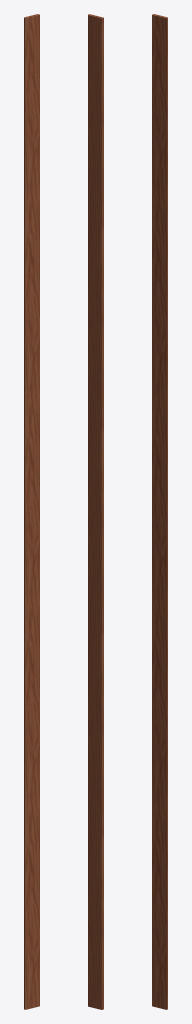
The model's file is batten-oak.glb.
3 renders of one model, left to right at view 1: azimuth 30°, elevation 25°; view 2: azimuth 150°, elevation 25°; view 3: azimuth 330°, elevation 25°, orthographic.
Parts seen in each view (by area): view 1: Oak.002; view 2: Oak.002; view 3: Oak.002.
Boxes of the visible parts, x1,y1,x2,y2 form: Oak.002: [24, 14, 39, 1009]; Oak.002: [88, 14, 103, 1009]; Oak.002: [152, 14, 167, 1009].
Size of the model in its own units: 0.0381 by 2.44 by 0.00655.
Materials: 1 (1 with a texture image).
